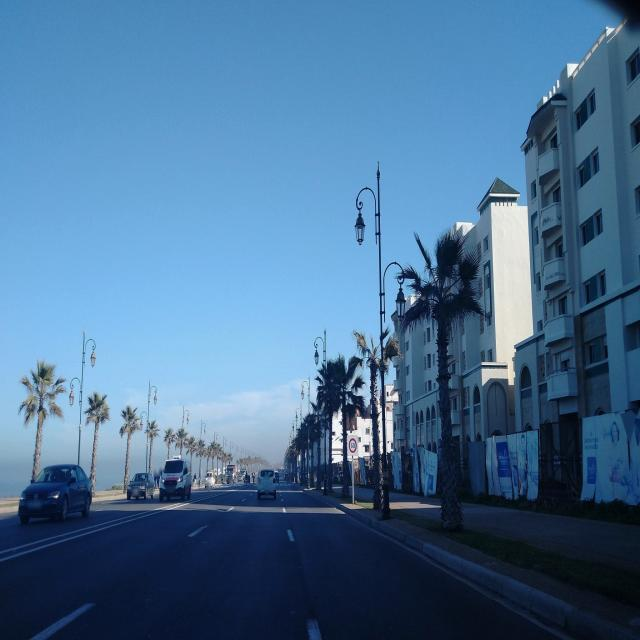car: (17, 463, 93, 525), (158, 457, 192, 503), (126, 471, 155, 502), (256, 468, 276, 500), (202, 470, 216, 488)
